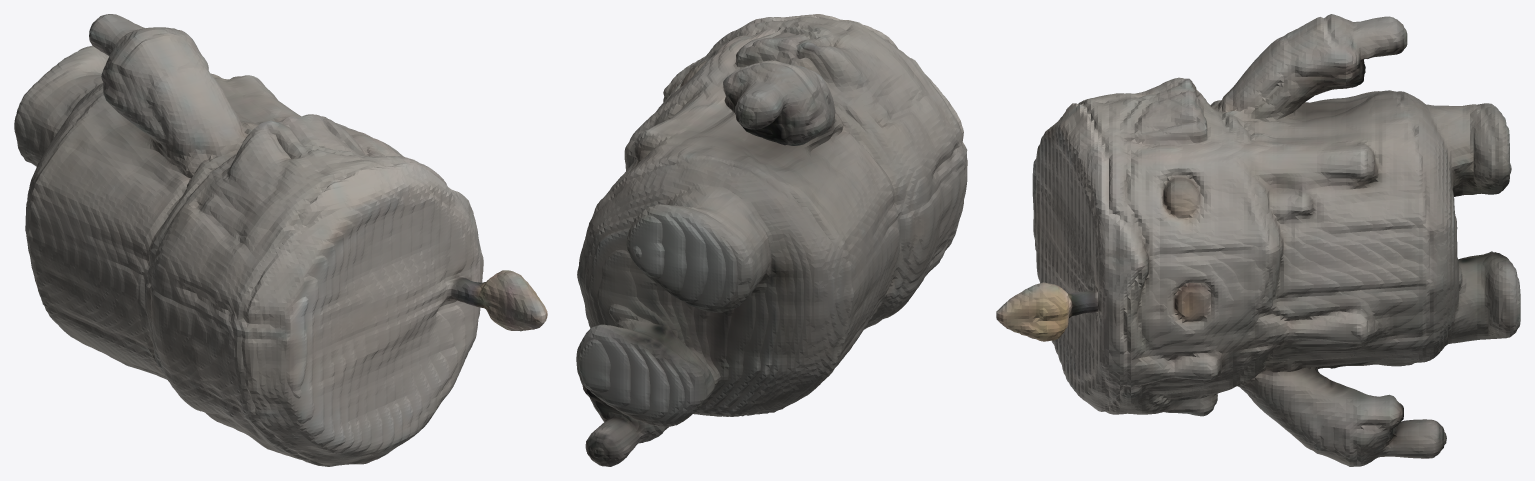
Rendered from enemy_mender_triposr.glb.
The picture shows the model from 3 angles, left to right: view 1: azimuth 30°, elevation 25°; view 2: azimuth 150°, elevation 25°; view 3: azimuth 270°, elevation 25°; orthographic projection. The views are drawn at different scales.
Visible parts, largest first — view 1: geometry_0; view 2: geometry_0; view 3: geometry_0.
Part boxes in pixels (bbox=[...]): geometry_0: bbox=[14, 14, 547, 466]; geometry_0: bbox=[576, 14, 967, 466]; geometry_0: bbox=[996, 14, 1520, 466].
Size of the model in its own units: 0.6618 by 0.7916 by 0.9818.
